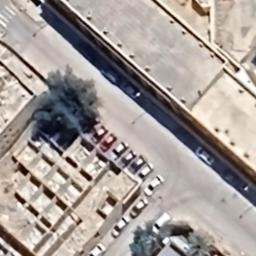sedan: (193, 142, 218, 168), (113, 146, 138, 170), (125, 152, 150, 176), (142, 174, 167, 198), (108, 215, 132, 240), (96, 129, 118, 154), (120, 79, 142, 102), (108, 140, 131, 162), (129, 198, 151, 220), (135, 162, 156, 184), (91, 123, 109, 147), (84, 240, 108, 256)
